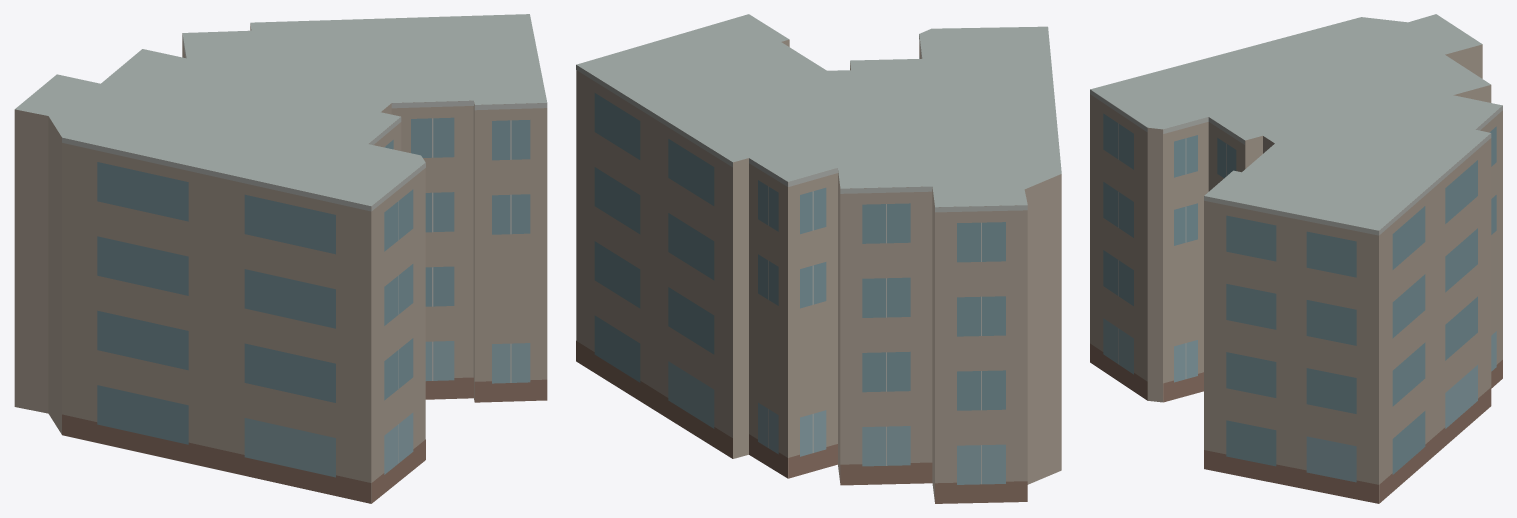
The model's file is survey-upis-32968010.glb.
3 renders of one model, left to right at view 1: azimuth 30°, elevation 25°; view 2: azimuth 150°, elevation 25°; view 3: azimuth 270°, elevation 25°, orthographic. The views are drawn at different scales.
Visible parts, largest first — view 1: survey-upis-32968010.tmp; view 2: survey-upis-32968010.tmp; view 3: survey-upis-32968010.tmp.
Part boxes in pixels (x1=…): survey-upis-32968010.tmp: x1=14, y1=14, x2=547, y2=503; survey-upis-32968010.tmp: x1=576, y1=14, x2=1061, y2=503; survey-upis-32968010.tmp: x1=1090, y1=14, x2=1502, y2=503.
Bounding box in the file's own units: 23.67 × 13.9 × 19.05.
